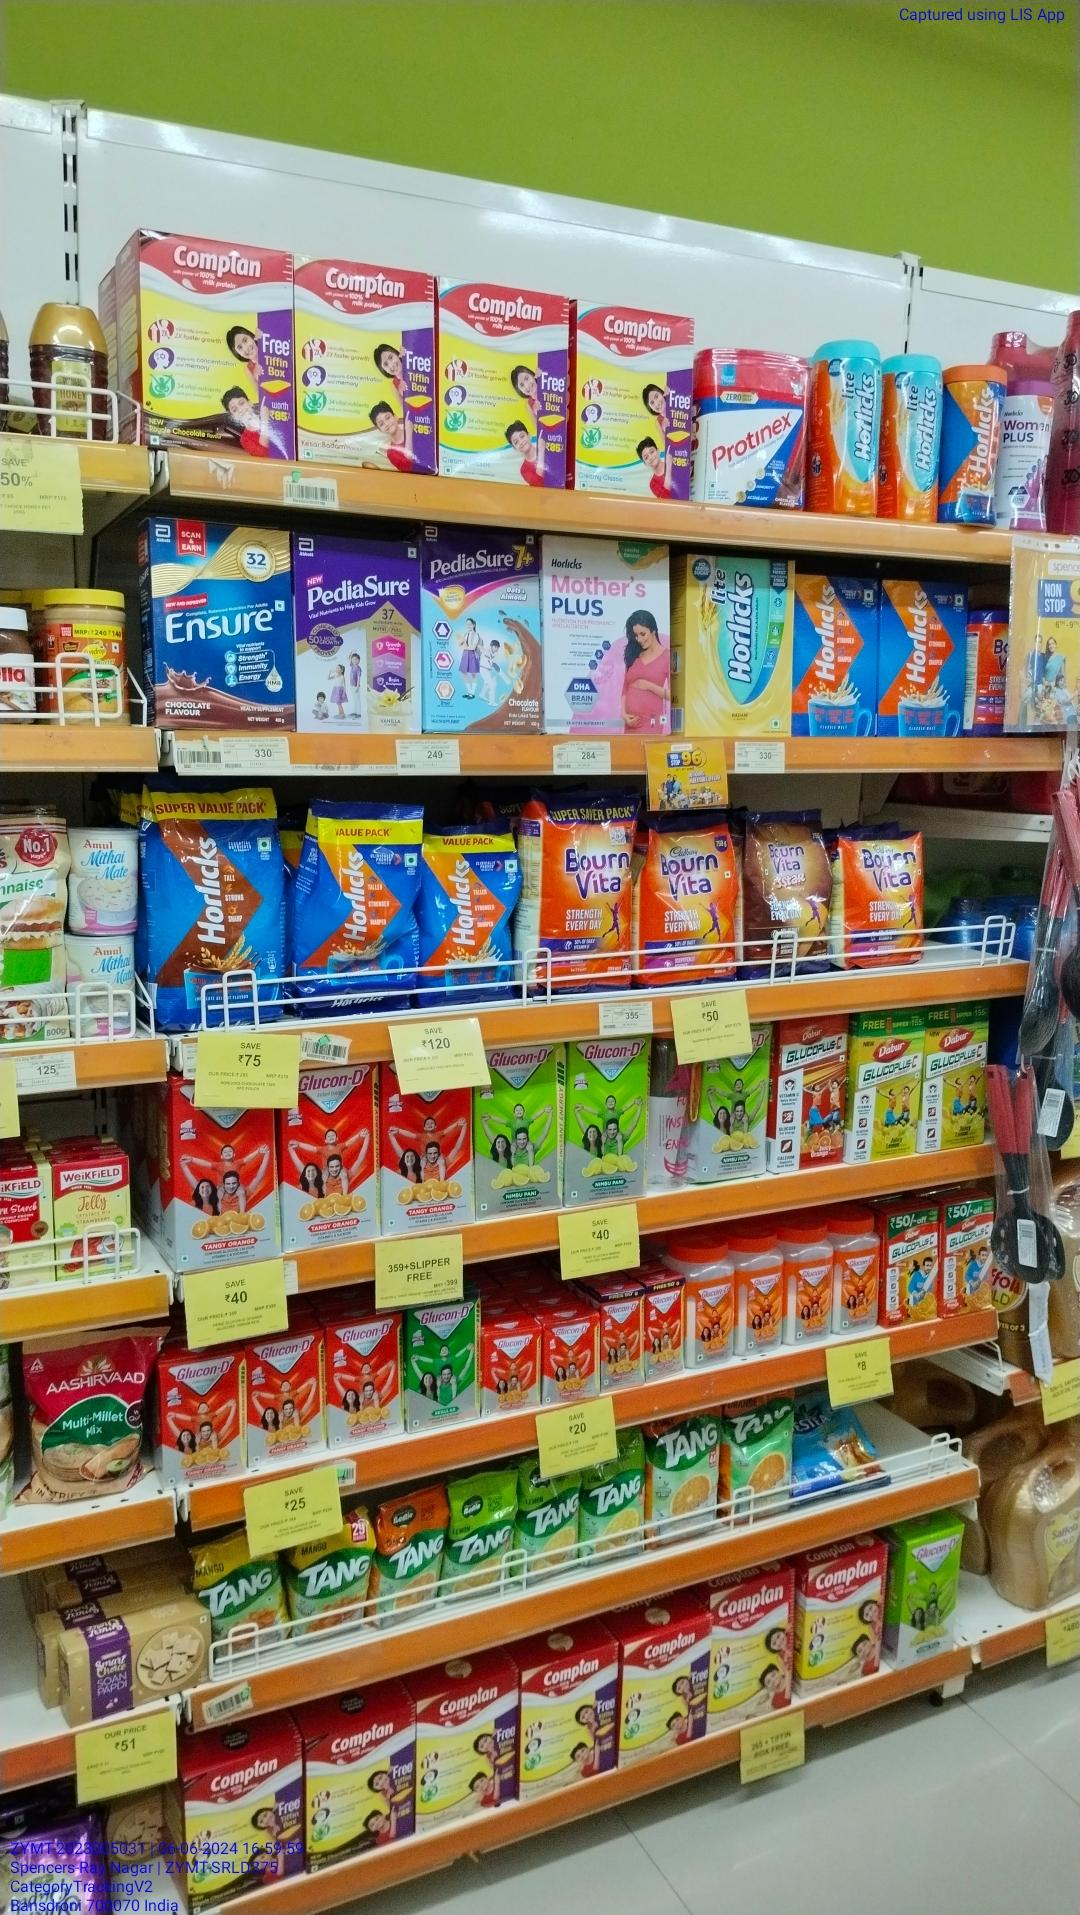BOURN_VITA_1_KG_POUCH: (539, 797, 635, 990)
BOURN_VITA_500_G_POUCH: (842, 831, 926, 965)
BOURN_VITA_750_G_POUCH: (642, 818, 731, 985)
BOURN_VITA_FIVE_STAR_MAGIC_500_G_POUCH: (747, 815, 830, 979)
COMPLAN_CHOCOLATE_500_GMS_PACK: (139, 233, 292, 456), (187, 1762, 299, 1906), (307, 1730, 416, 1868)
COMPLAN_CREAMY_CLASSIC_500_G_PACK: (442, 281, 566, 488), (576, 303, 689, 500)
COMPLAN_KESAR_BADAM_500_GMS_PACK: (295, 255, 441, 468), (417, 1693, 517, 1836), (622, 1634, 709, 1769), (524, 1668, 614, 1797), (712, 1588, 793, 1731), (808, 1556, 885, 1706)
HORLICKS_LITE_REGULAR_MALT_500_GM_JAR: (813, 334, 881, 514), (887, 352, 942, 530)
HORLICK_CHOCOLATE_750_G_POUCH: (154, 779, 279, 1030)
HORLICK_CLASSIC_MALT_500_G_JAR: (947, 366, 1001, 529)
HORLICK_CLASSIC_MALT_500_G_PACK: (881, 576, 964, 738), (795, 577, 877, 735)
HORLICK_CLASSIC_MALT_750_G_POUCH: (310, 802, 418, 1015), (425, 831, 514, 1004)
PEDIASURE_VANILLA_500_G_PACK: (296, 534, 412, 734)
PROTINEX_CHOCOLATE_400_G_JAR: (699, 345, 812, 512)
